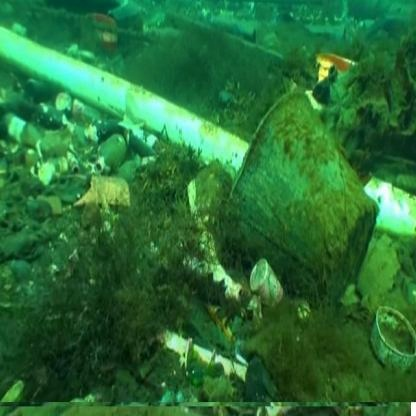misc: (238, 86, 366, 323)
